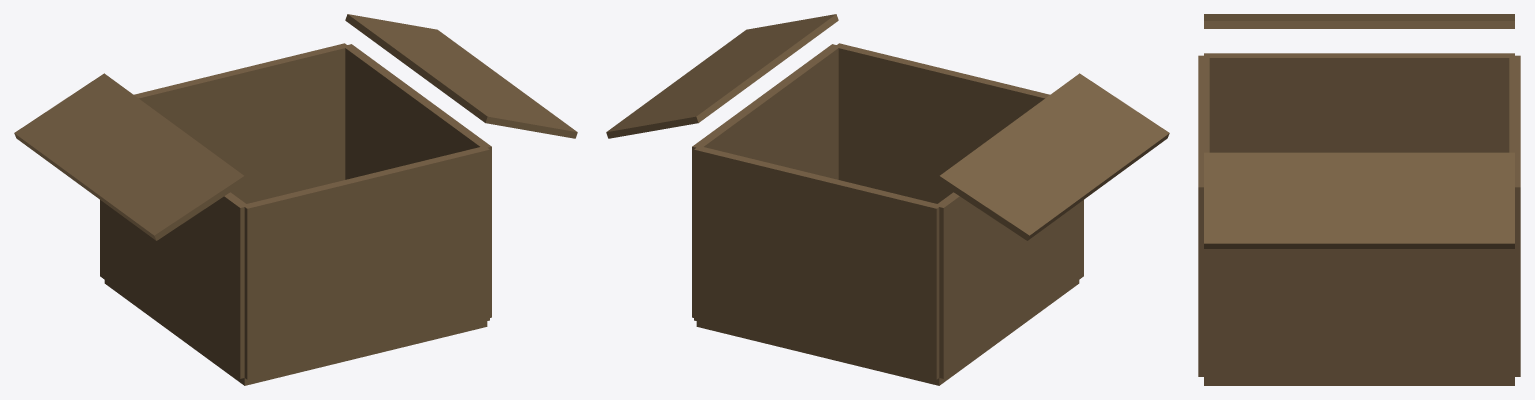
The model's file is SM_OpenCardboardCarton_448326c8dc.fbx.
3 renders of one model, left to right at view 1: azimuth 30°, elevation 25°; view 2: azimuth 150°, elevation 25°; view 3: azimuth 270°, elevation 25°, orthographic. The views are drawn at different scales.
Parts seen in each view (by area): view 1: SM_OpenCardboardCarton_448326c8dc; view 2: SM_OpenCardboardCarton_448326c8dc; view 3: SM_OpenCardboardCarton_448326c8dc.
Boxes of the visible parts, <box> form: SM_OpenCardboardCarton_448326c8dc: <box>14,14,577,385</box>; SM_OpenCardboardCarton_448326c8dc: <box>606,14,1169,385</box>; SM_OpenCardboardCarton_448326c8dc: <box>1198,14,1520,385</box>.
Size of what is drawn, in the model's own units: 95.95 by 57 by 45.48.
